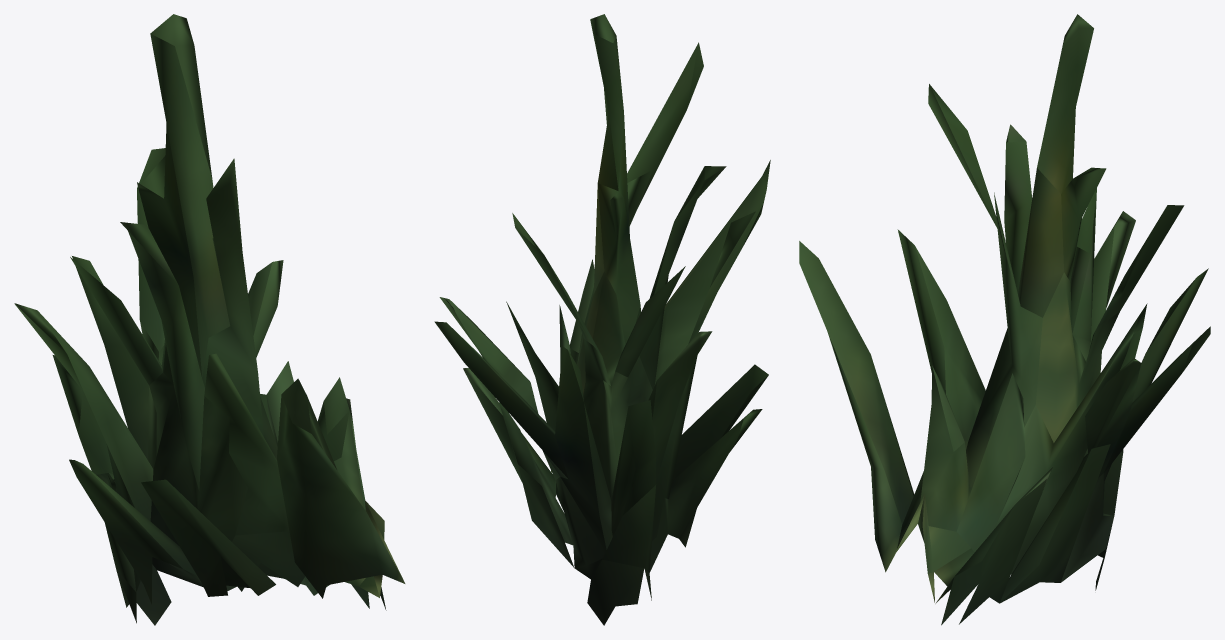
File: terrain3_plant_2.glb
The picture shows the model from 3 angles, left to right: view 1: azimuth 30°, elevation 25°; view 2: azimuth 150°, elevation 25°; view 3: azimuth 270°, elevation 25°; orthographic projection. The views are drawn at different scales.
Parts seen in each view (by area): view 1: plant_2; view 2: plant_2; view 3: plant_2.
Part boxes in pixels (x1=…): plant_2: x1=14, y1=14, x2=405, y2=625; plant_2: x1=434, y1=14, x2=770, y2=625; plant_2: x1=799, y1=14, x2=1210, y2=625.
Bounding box in the file's own units: 5.63 × 11.23 × 7.19.
Materials: 1 (1 with a texture image).
